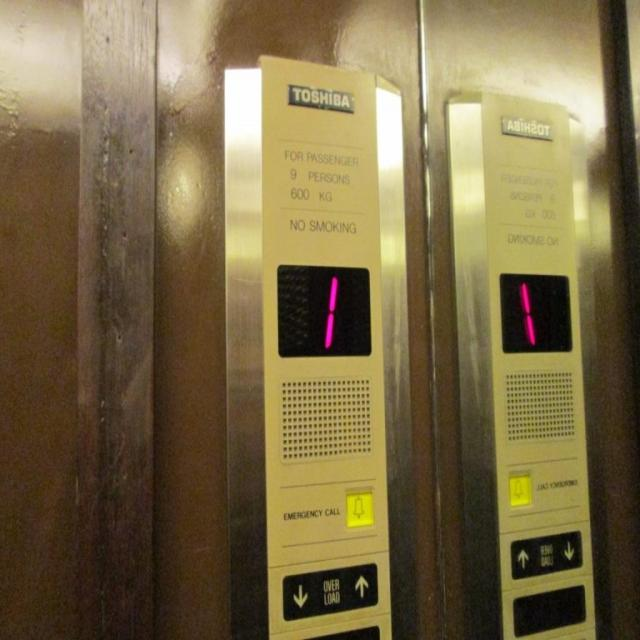alarm: (343, 486, 375, 528), (506, 470, 534, 509)
down: (555, 530, 581, 568)
led: (276, 264, 372, 358), (498, 272, 574, 353)
text_blur: (534, 534, 558, 574)
up: (509, 538, 538, 580)
